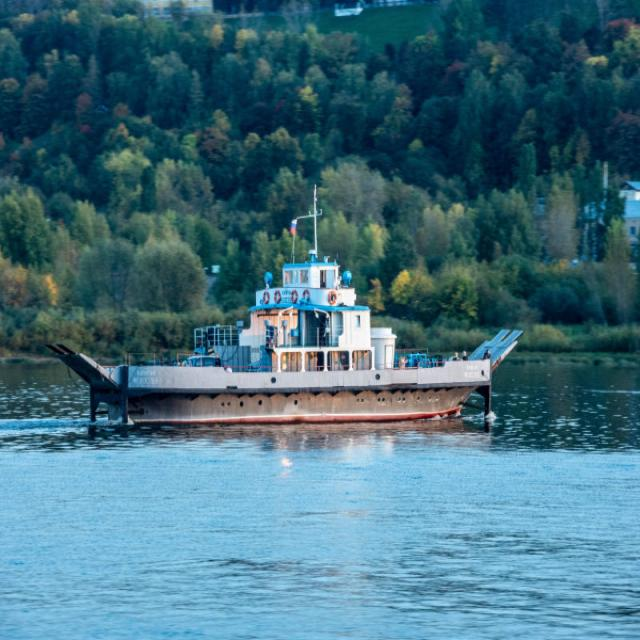tugboat: (43, 180, 529, 444)
